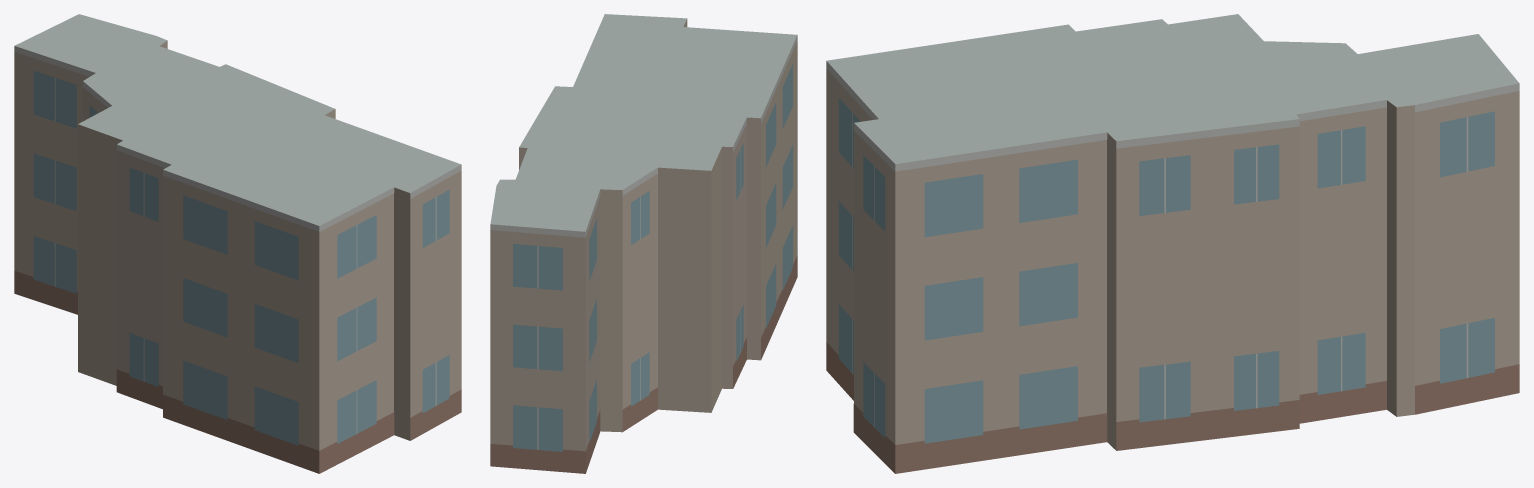
File: survey-upis-32472038.glb
3 renders of one model, left to right at view 1: azimuth 30°, elevation 25°; view 2: azimuth 150°, elevation 25°; view 3: azimuth 270°, elevation 25°, orthographic. The views are drawn at different scales.
Parts seen in each view (by area): view 1: survey-upis-32472038.tmp; view 2: survey-upis-32472038.tmp; view 3: survey-upis-32472038.tmp.
Boxes of the visible parts, x1,y1,x2,y2 form: survey-upis-32472038.tmp: [14, 14, 461, 473]; survey-upis-32472038.tmp: [490, 14, 797, 473]; survey-upis-32472038.tmp: [826, 14, 1519, 473].
Size of the model in its own units: 10.62 by 10.2 by 20.7.
